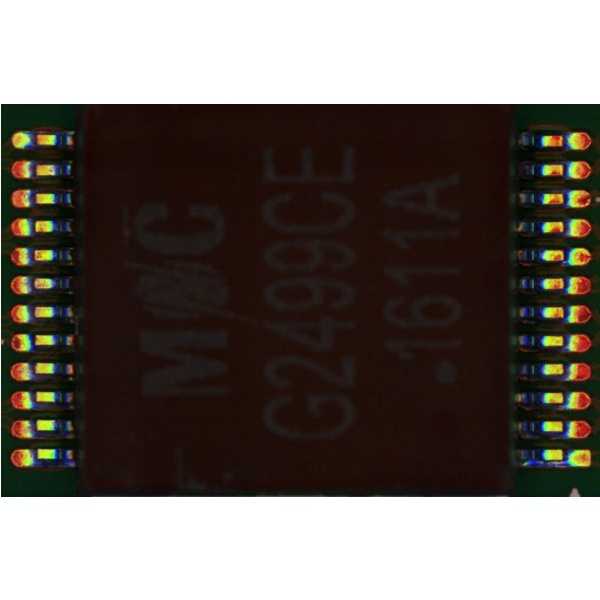Bad_qiaojiao: (522, 461, 568, 467)
